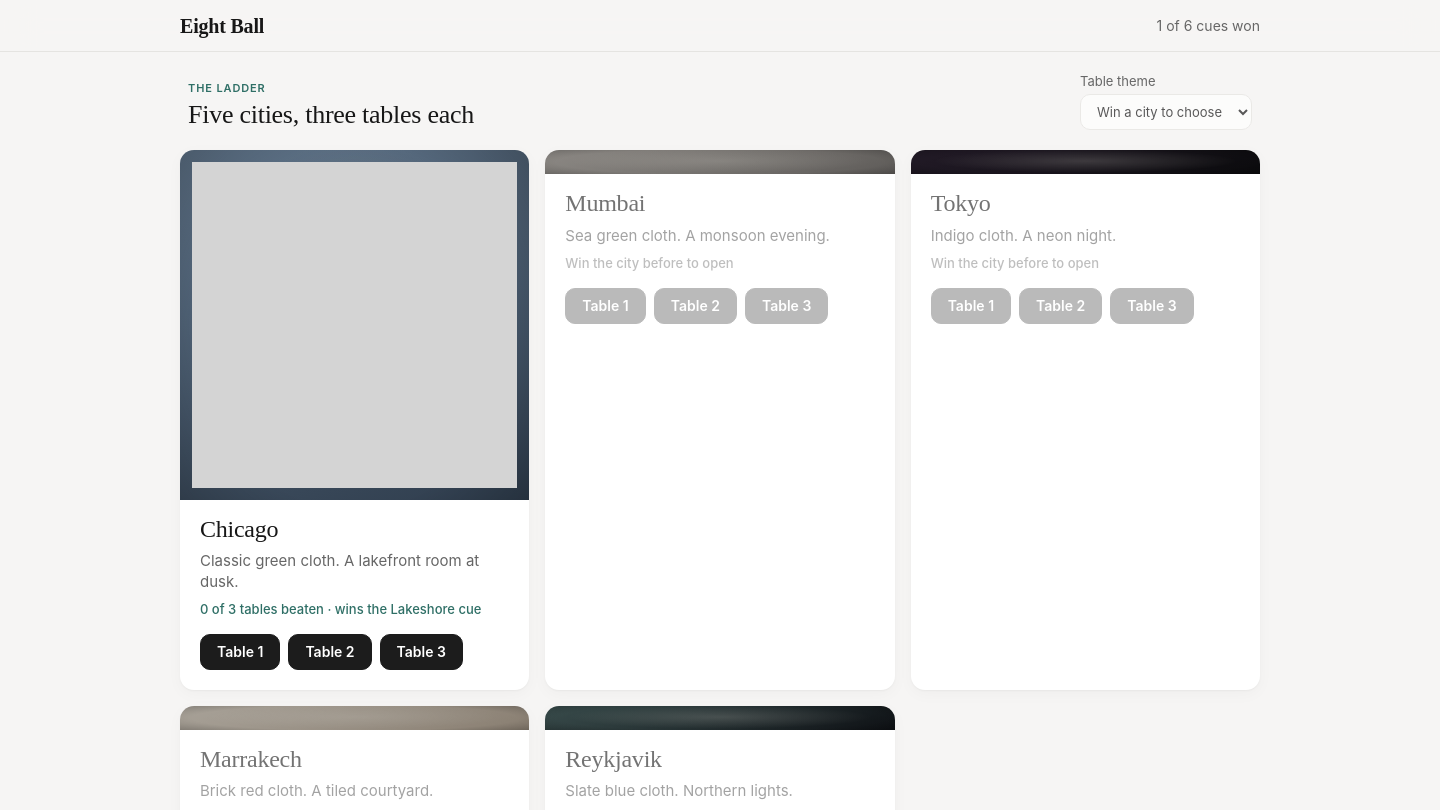
Test: a table › shows each player's group and what is left
The width and height of the screenshot is (1440, 810).
Click the button with aria-label "Chicago, table 1": (240,652) [200,634,280,670]
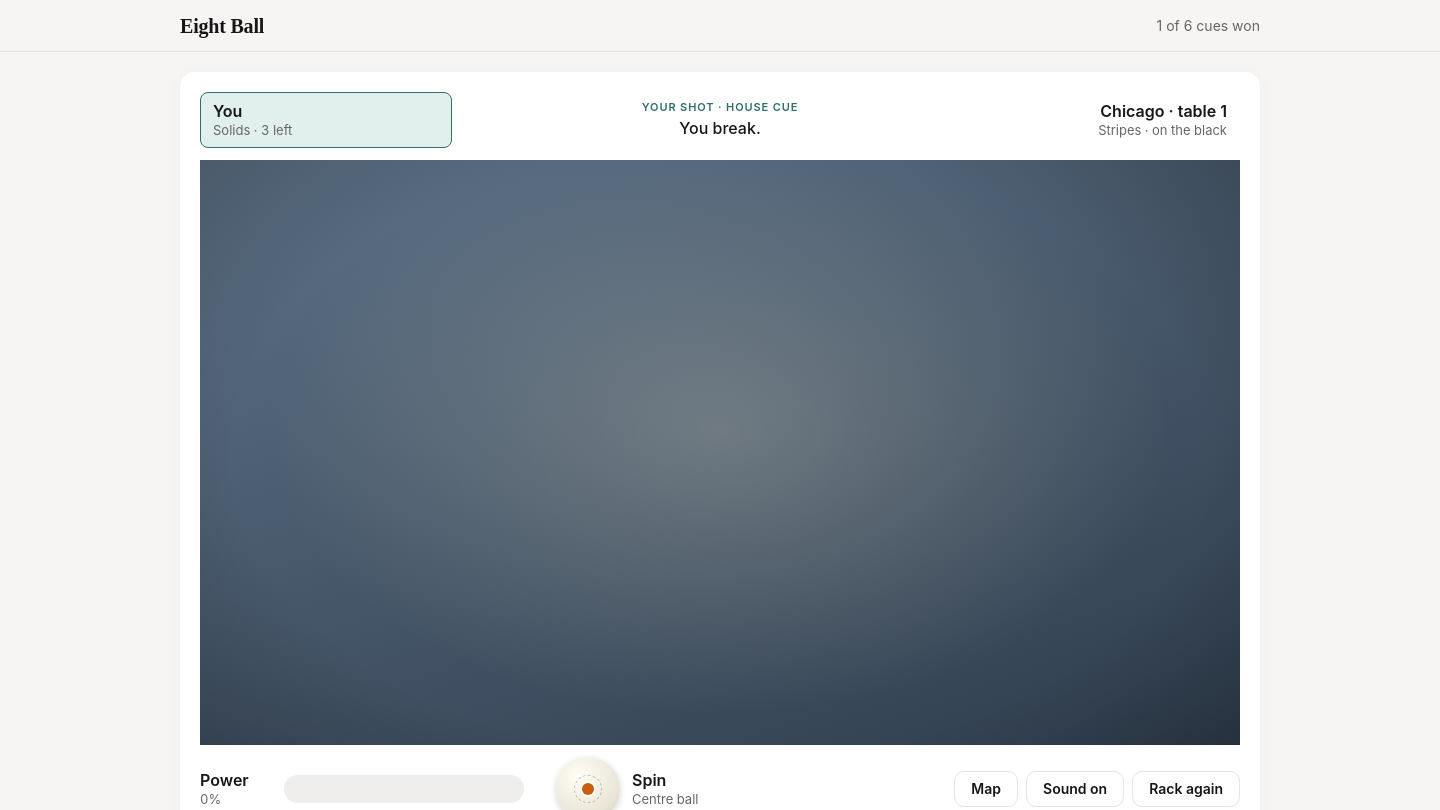
expect the text "Solids · 3 left" is shown: met, box [213,122,292,138]
expect the text "Stripes · on the black" is shown: met, box [1098,122,1227,138]
